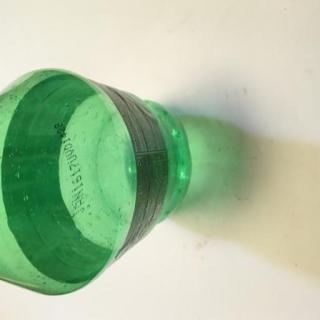Plastic-bottle: (2, 66, 194, 298)
